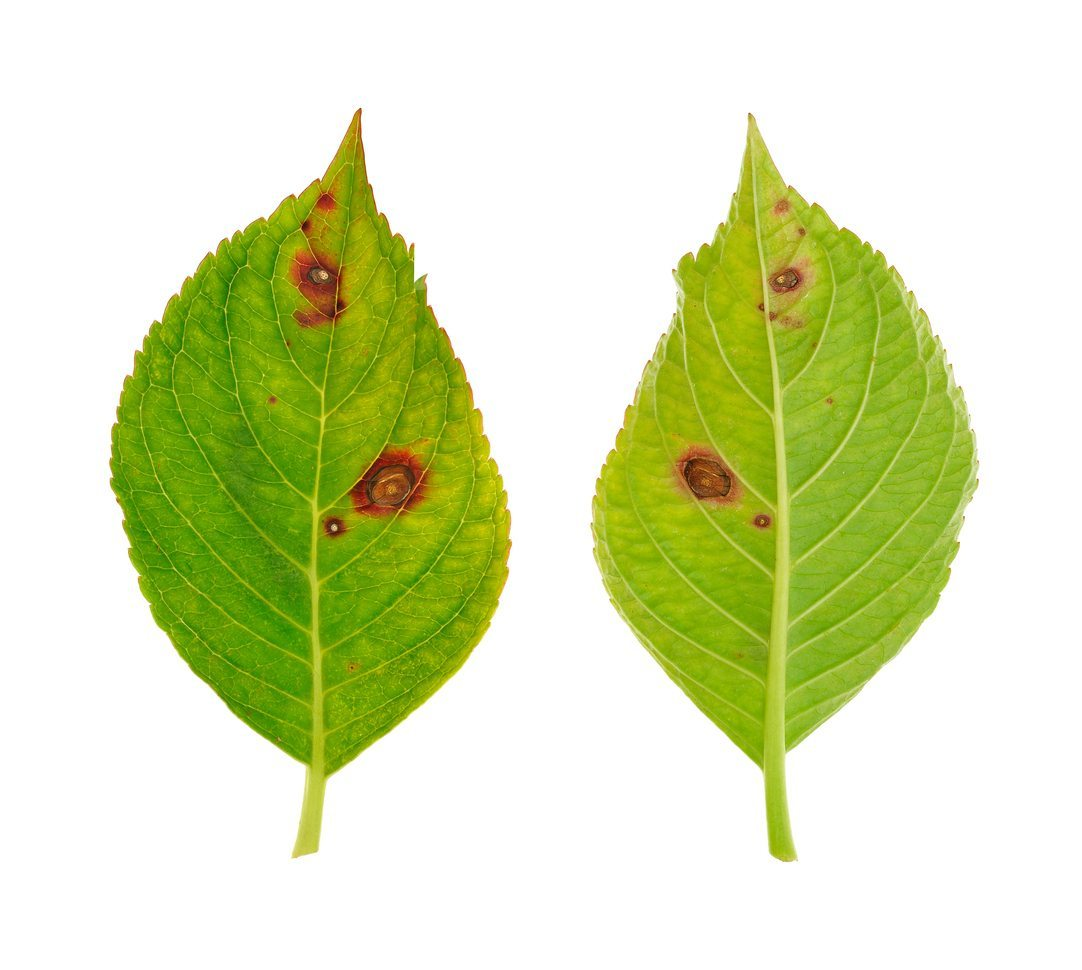unhealthy: (89, 108, 555, 850), (599, 106, 1026, 879)
